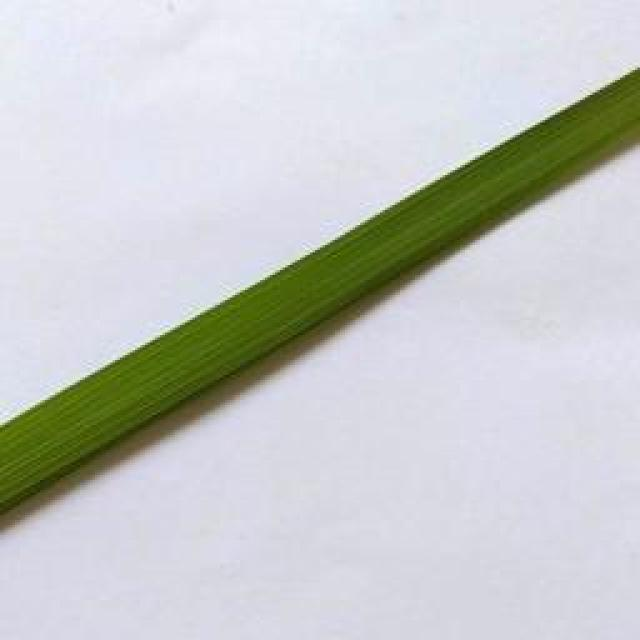Healthy-Plant: (0, 71, 640, 517)
